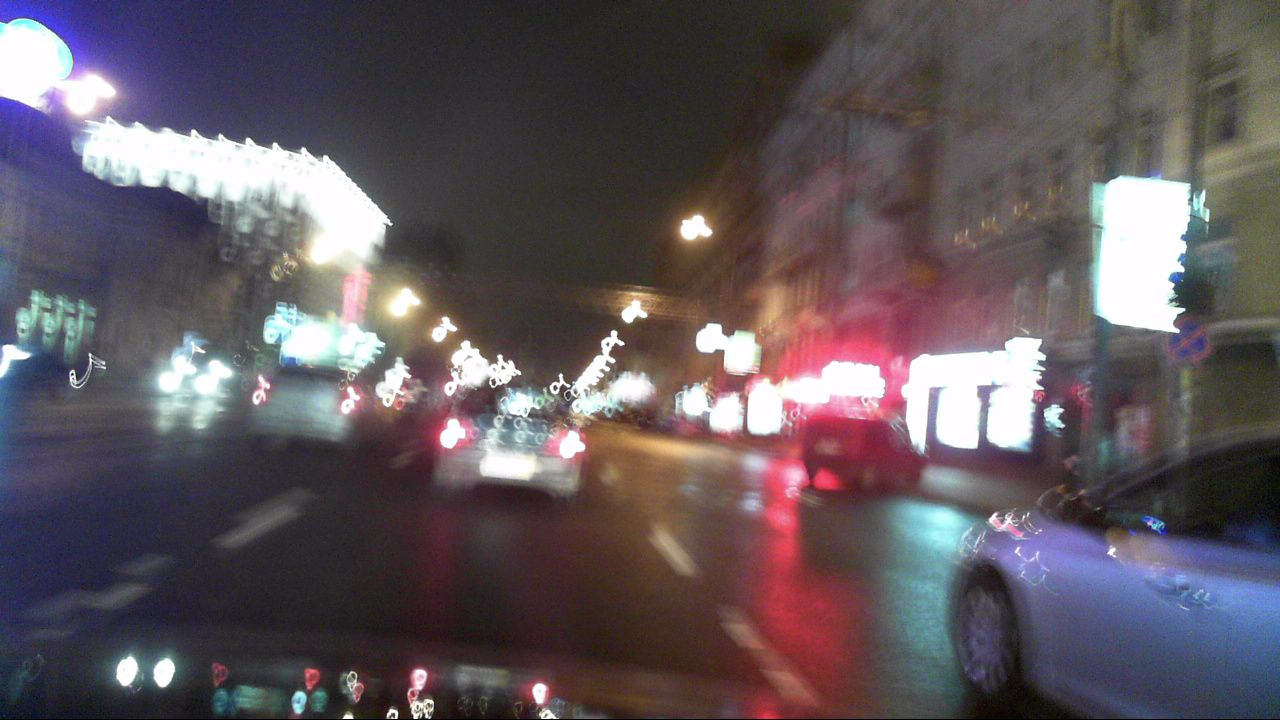No Parking: (1165, 321, 1208, 367)
